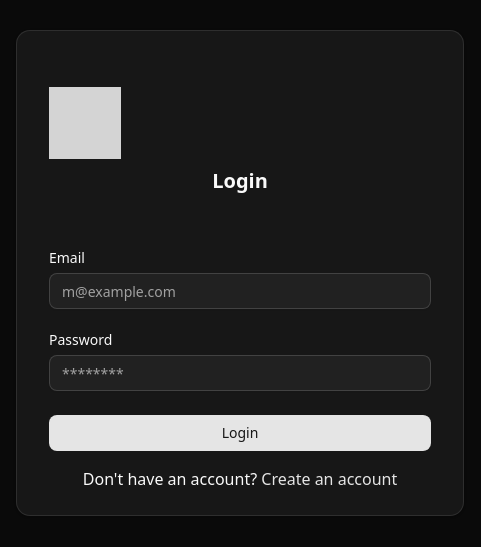
Test case: LoginPage › shows password minimum length validation error
Type "user@example.com" into the field with placeholder "m@example.com" at point(240, 291), box [49, 273, 431, 309]
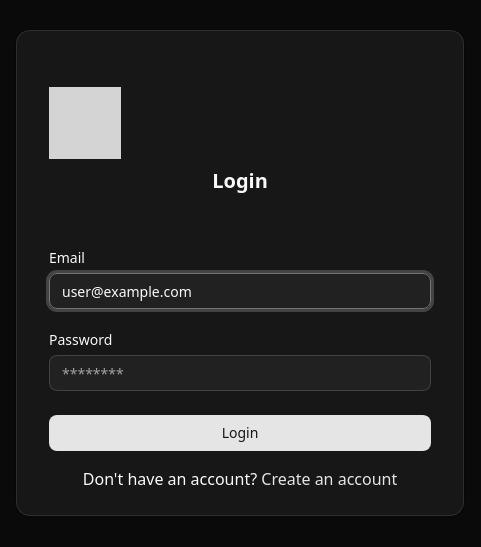
Type "1234567" into the password field named "password" at point(240, 373), box [49, 355, 431, 391]
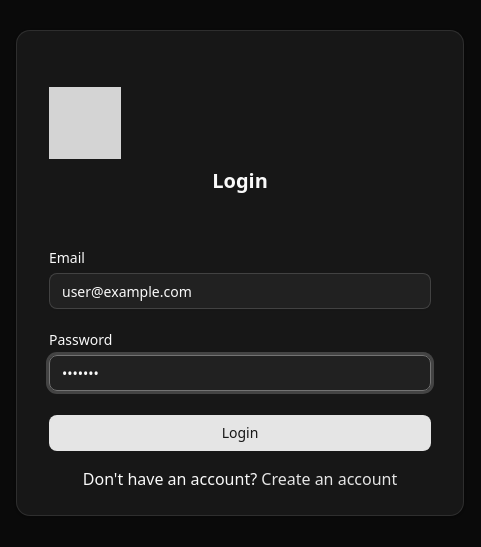
Click the button "Login" at point(240, 433), box [49, 415, 431, 451]
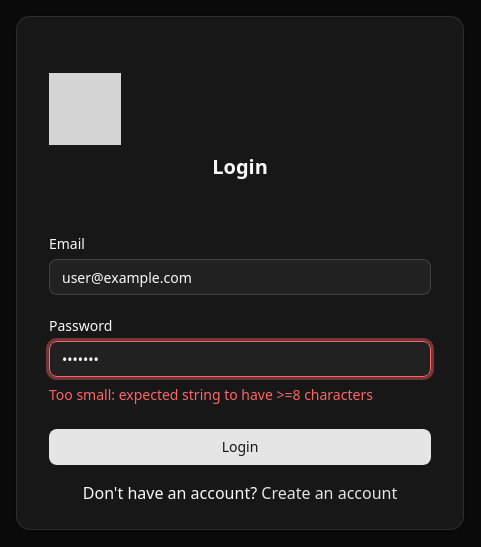
Result: the text "8" is shown at [49, 385, 373, 404]
